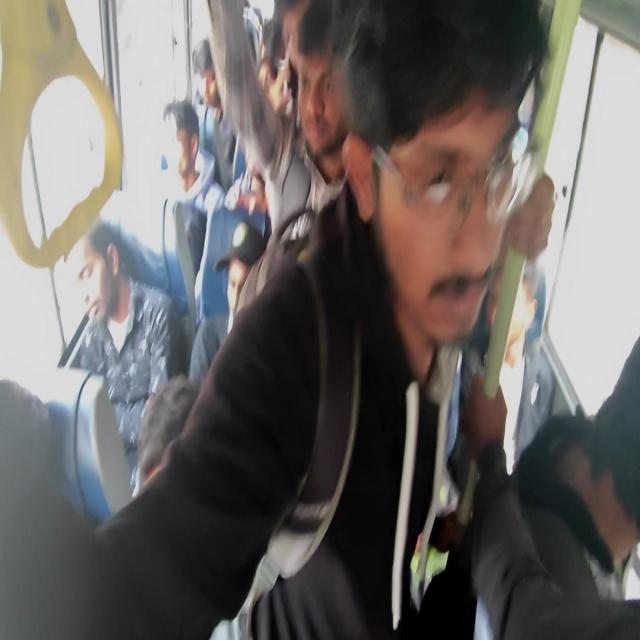person: (376, 72, 514, 314), (579, 353, 640, 590), (296, 28, 378, 185), (138, 400, 223, 550), (493, 258, 549, 373), (217, 237, 270, 336), (68, 232, 122, 324), (158, 110, 208, 200), (228, 138, 272, 202), (194, 41, 232, 111), (254, 61, 289, 107), (261, 23, 281, 54)
